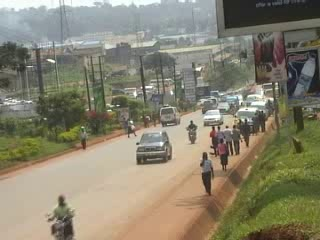Car: (133, 125, 177, 167), (200, 105, 225, 128), (214, 99, 230, 113)
Motorcycle: (40, 206, 78, 237), (184, 124, 198, 145)
